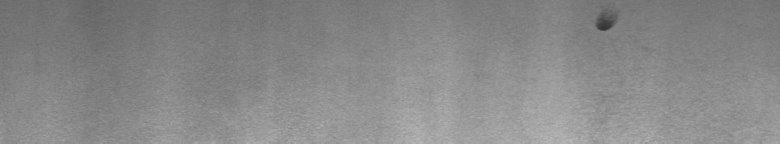fi: (589, 12, 620, 36)
